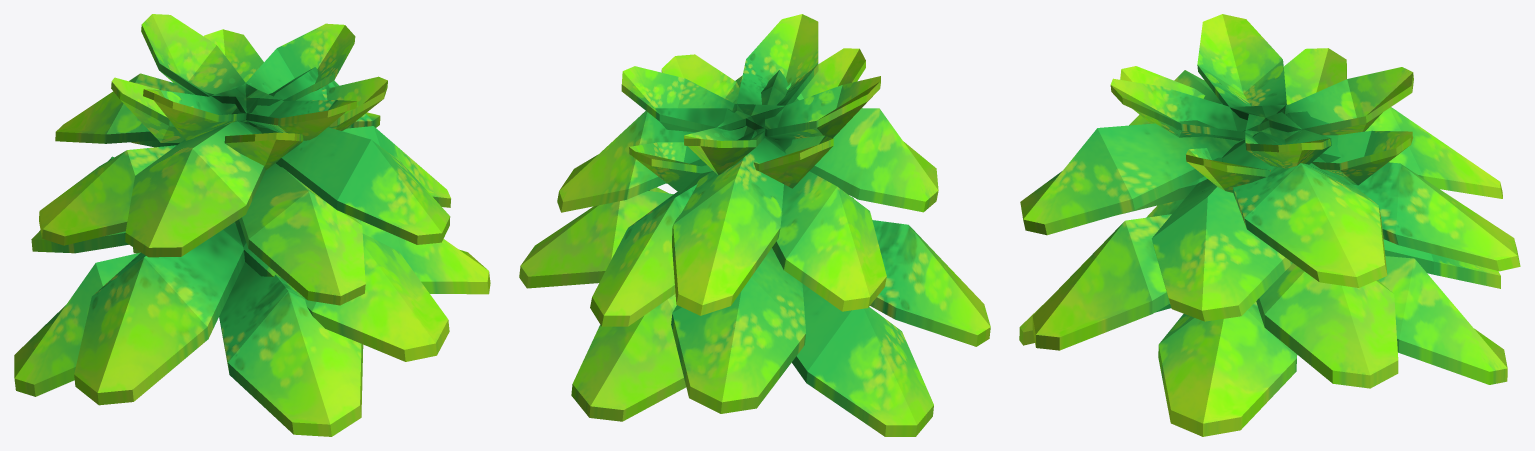
The model's file is arbusto.fbx.
3 views of the same model, side by side, from view 1: azimuth 30°, elevation 25°; view 2: azimuth 150°, elevation 25°; view 3: azimuth 270°, elevation 25° (orthographic). The views are drawn at different scales.
Visible parts, largest first — view 1: Plane.002; view 2: Plane.002; view 3: Plane.002.
Boxes of the visible parts, <box> form: Plane.002: <box>14,14,490,436</box>; Plane.002: <box>519,14,990,436</box>; Plane.002: <box>1019,14,1520,436</box>.
Size of the model in its own units: 121 by 86.49 by 125.
Materials: 1 (1 with a texture image).
